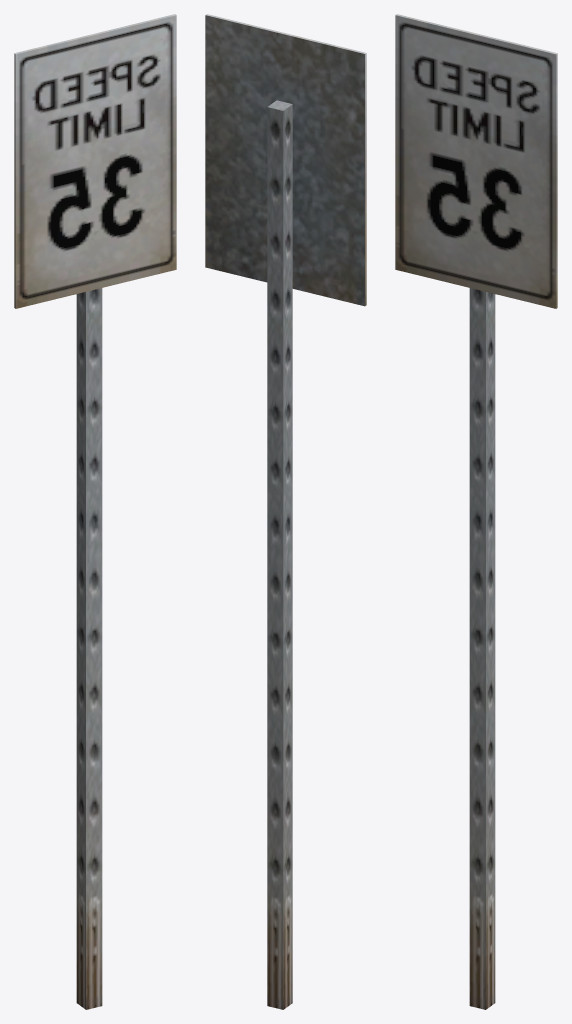
Rendered from 35mph.fbx.
The picture shows the model from 3 angles, left to right: view 1: azimuth 30°, elevation 25°; view 2: azimuth 150°, elevation 25°; view 3: azimuth 330°, elevation 25°; orthographic projection.
Visible parts, largest first — view 1: mesh_0, mesh_1; view 2: mesh_0, mesh_1; view 3: mesh_0, mesh_1.
Part boxes in pixels (<box>): mesh_0: <box>14,14,176,308</box>; mesh_1: <box>76,288,102,1009</box>; mesh_0: <box>205,14,366,306</box>; mesh_1: <box>267,100,292,1009</box>; mesh_0: <box>395,14,557,308</box>; mesh_1: <box>469,288,495,1009</box>.
Bounding box in the file's own units: 44.43 × 257 × 5.49.
2 materials, 2 textured.
